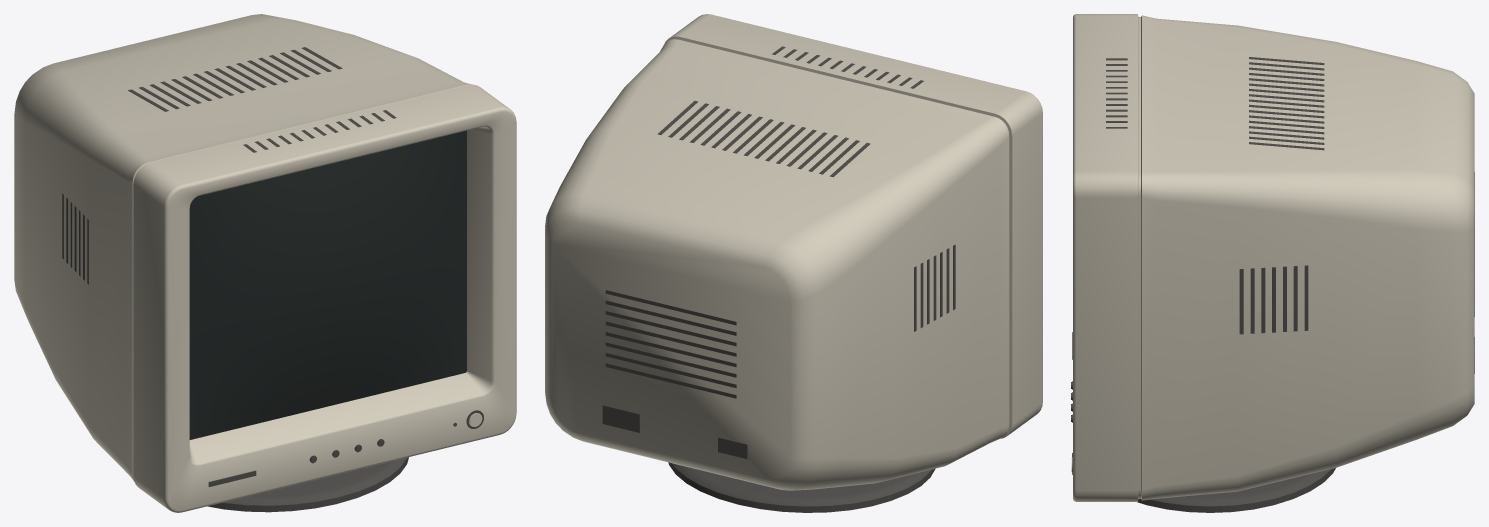
Rendered from SM_ComputerMonitor.fbx.
3 views of the same model, side by side, from view 1: azimuth 30°, elevation 25°; view 2: azimuth 150°, elevation 25°; view 3: azimuth 270°, elevation 25° (orthographic).
Parts seen in each view (by area): view 1: SM_ComputerMonitor; view 2: SM_ComputerMonitor; view 3: SM_ComputerMonitor.
Boxes of the visible parts, x1,y1,x2,y2 form: SM_ComputerMonitor: [14, 14, 516, 512]; SM_ComputerMonitor: [545, 14, 1042, 512]; SM_ComputerMonitor: [1071, 14, 1474, 512].
Size of the model in its own units: 45.4 by 44.45 by 44.93.
